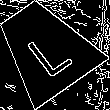L_NW: (16, 19, 74, 78)
